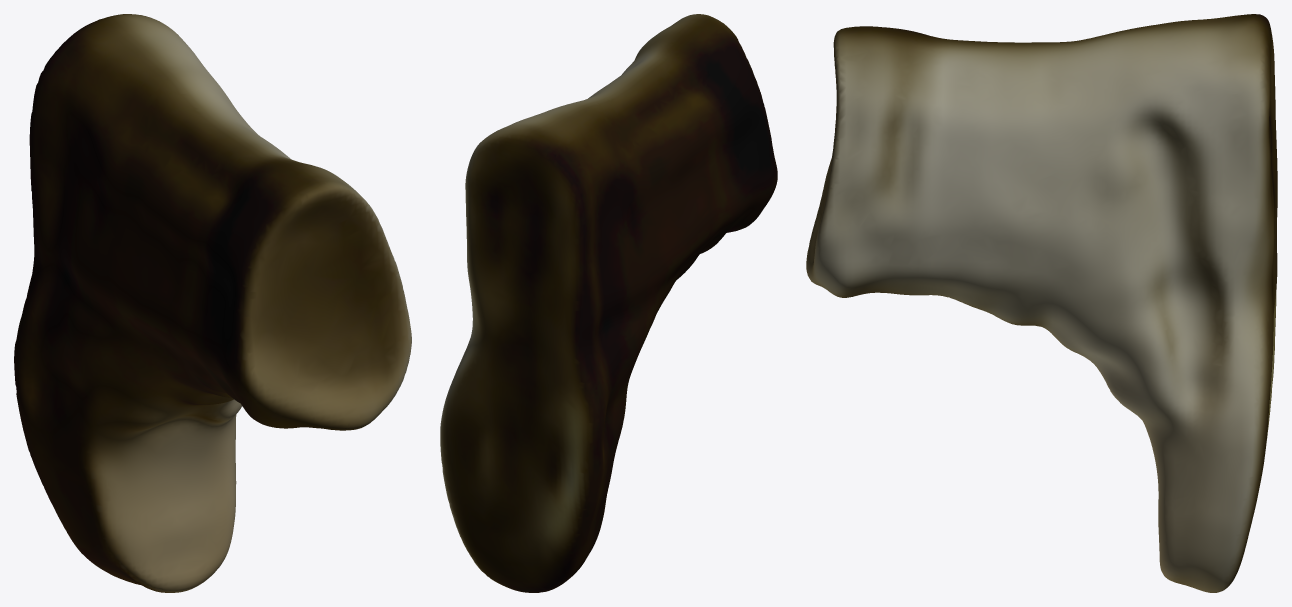
The model's file is shoe1.glb.
3 views of the same model, side by side, from view 1: azimuth 30°, elevation 25°; view 2: azimuth 150°, elevation 25°; view 3: azimuth 270°, elevation 25° (orthographic). The views are drawn at different scales.
Size of the model in its own units: 0.369 by 0.9993 by 0.7757.
